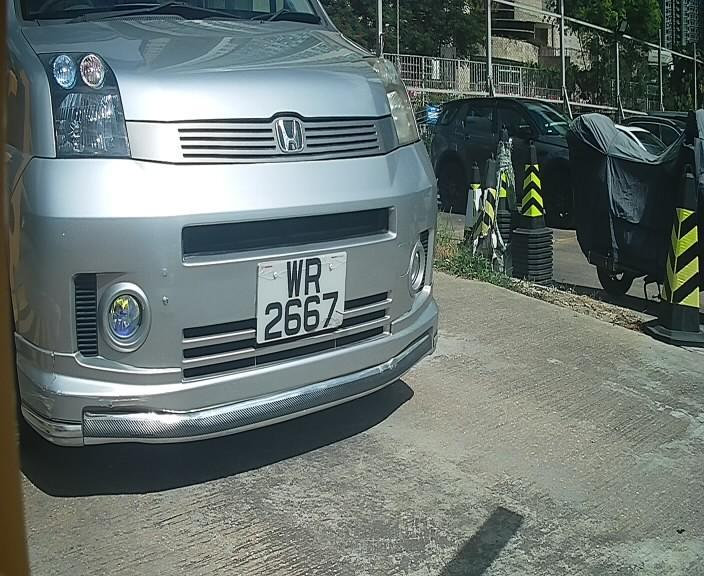License Plate: (252, 245, 356, 355)
